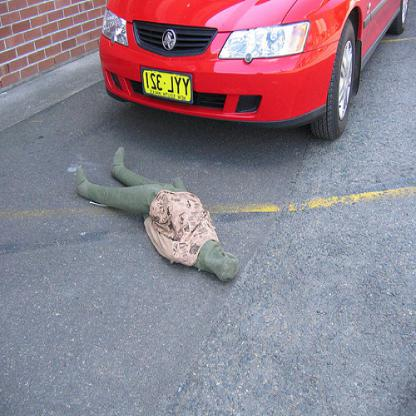car: (100, 1, 410, 143)
